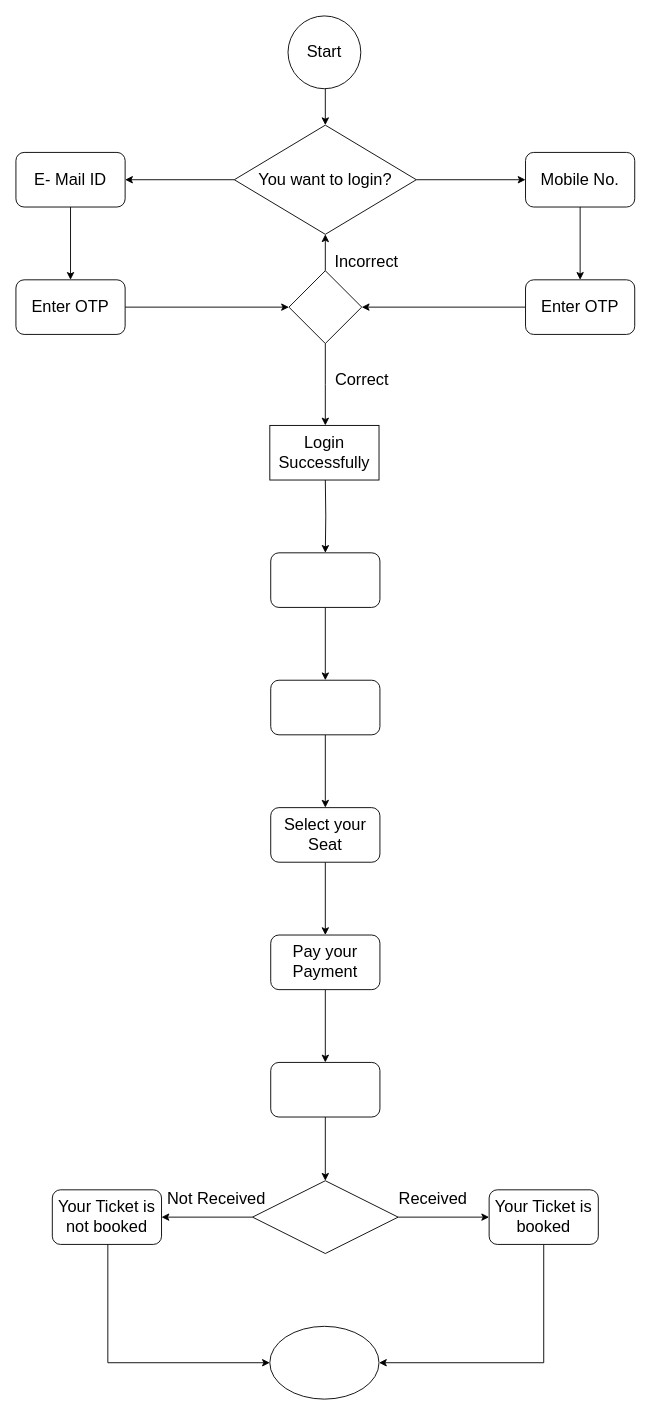
The diagram is 651 pixels wide and 1415 high, and some of its shapes have lost their labels. The box of each missing label's shape, as (x1, y1, x2, y2) in pixels:
End: (269, 1325, 379, 1399)
OTP verify: (288, 270, 362, 344)
Payment Check: (252, 1180, 398, 1254)
Select your Movie: (270, 552, 380, 607)
Select your Time Slot: (270, 679, 380, 735)
UPI, Debit card, Net Banking: (270, 1062, 380, 1117)
